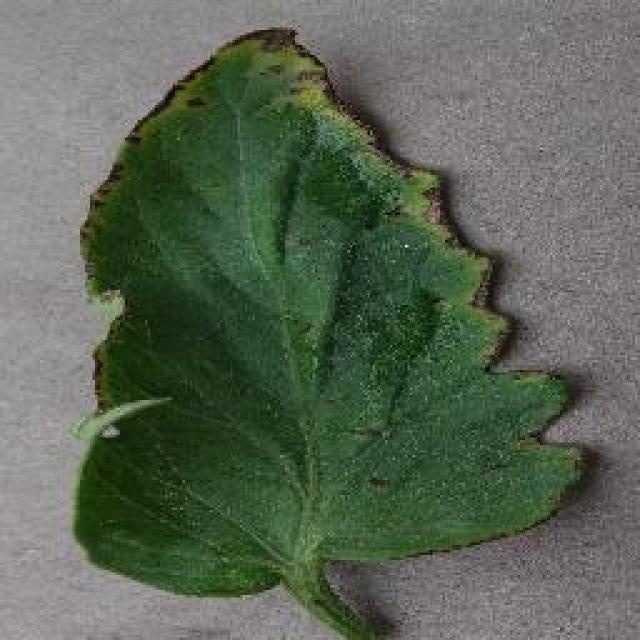Tomato bacterial spot leaf: (80, 23, 590, 635)
